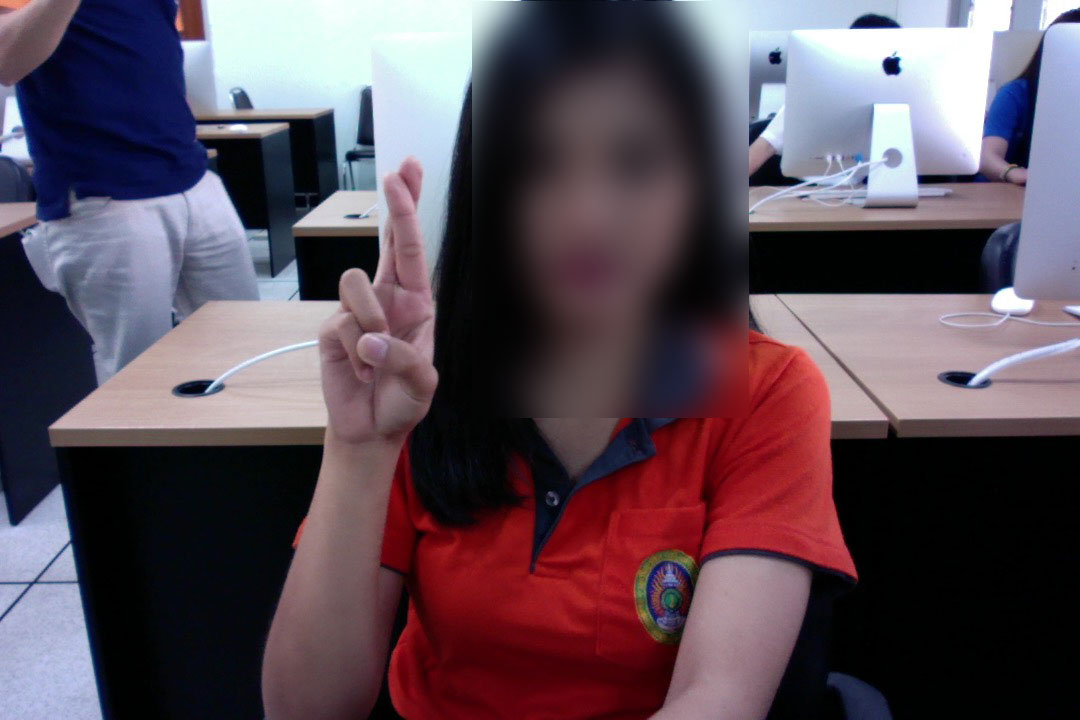rao: (305, 149, 454, 445)
